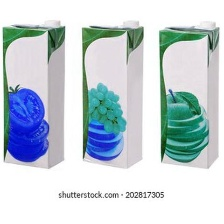carton: (152, 16, 223, 173), (76, 16, 146, 169), (0, 17, 69, 170)
